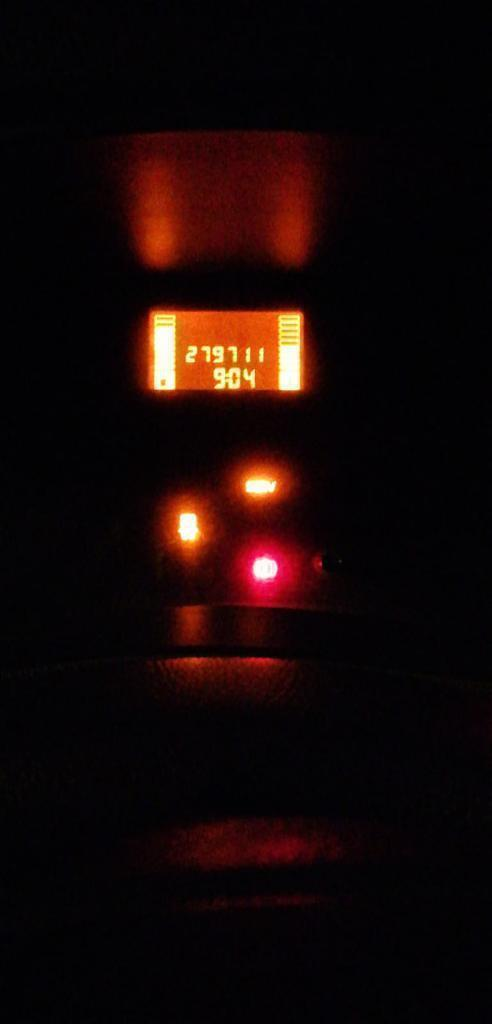0: (228, 367, 240, 389)
1: (244, 346, 251, 363), (258, 346, 264, 362)
2: (184, 345, 197, 363)
4: (242, 367, 256, 389)
7: (227, 345, 238, 363), (200, 345, 210, 362)
9: (212, 367, 225, 389), (211, 345, 224, 363)
X: (224, 372, 229, 383)
odometer: (139, 307, 307, 393)
